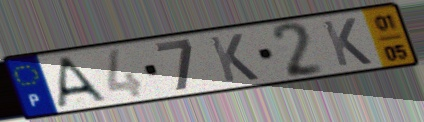2: (271, 18, 328, 84)
4: (104, 47, 147, 100)
7: (151, 36, 198, 94)
A: (55, 55, 112, 111)
K: (319, 16, 375, 69), (206, 32, 262, 84)
